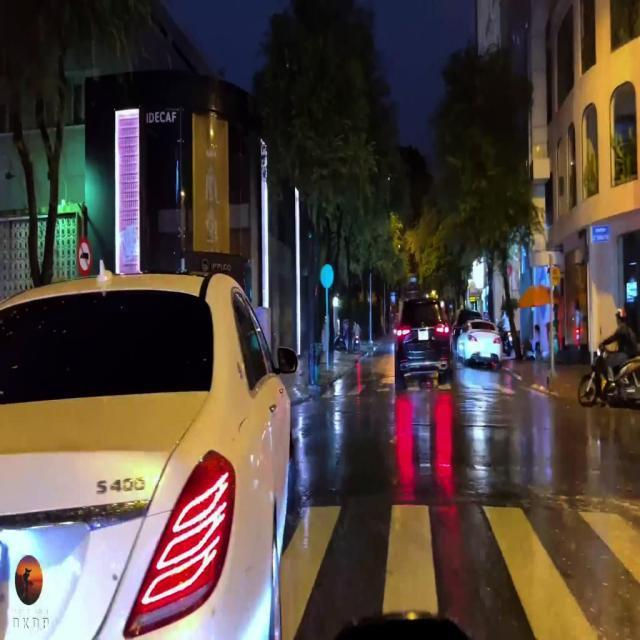106-cam-oto-tai: (77, 238, 92, 277)
